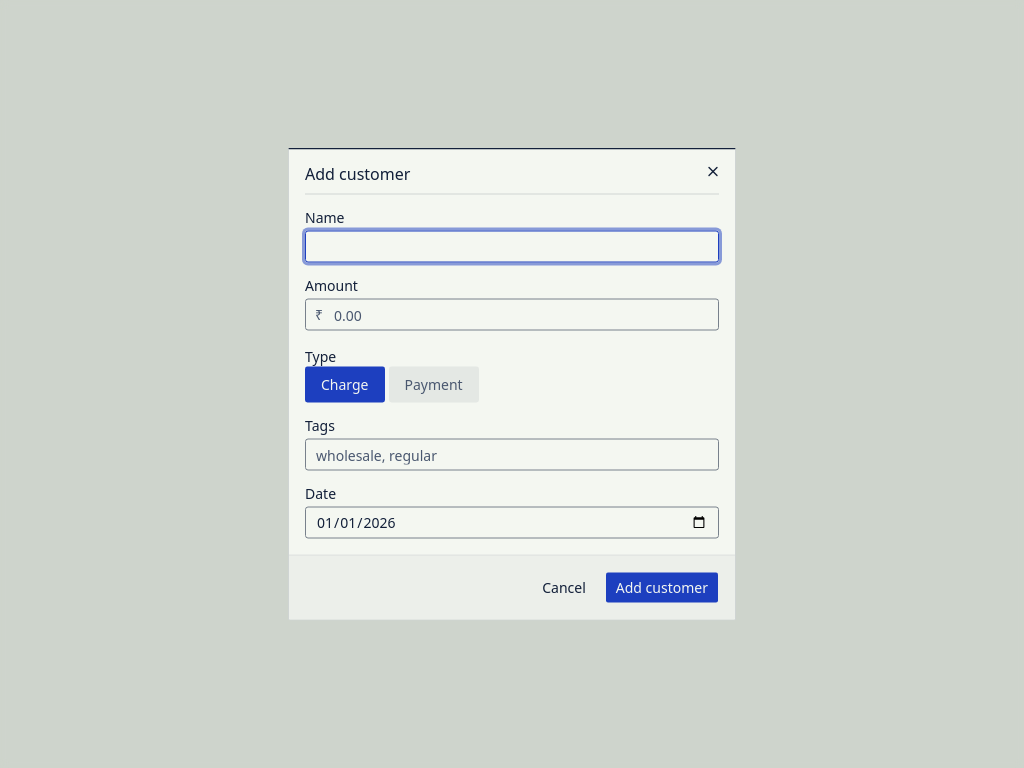
it: EntityDialog › maps field-level errors to the fields
Type "Asha" into the field labelled "Name".
click(512, 246); type("Asha")  # box left=305, top=230, right=719, bottom=262
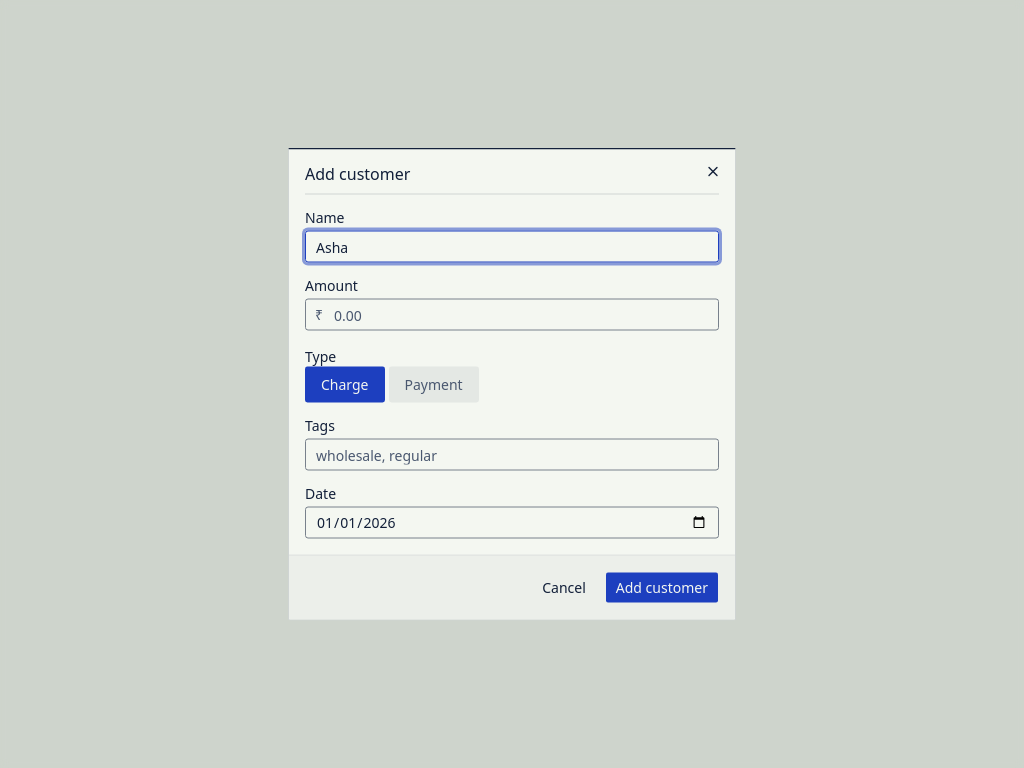
Type "100" into the number field labelled "Amount".
click(512, 314); type("100")  # box left=305, top=298, right=719, bottom=330
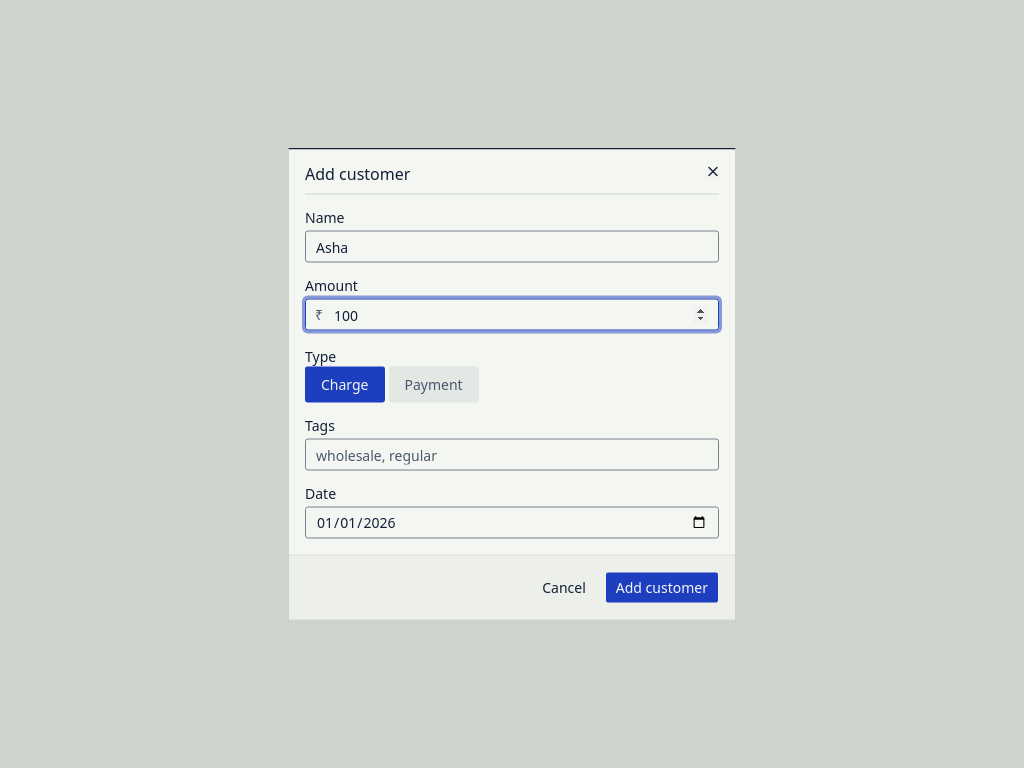
Click the button "Add customer".
click(662, 588)  # box left=605, top=572, right=719, bottom=604
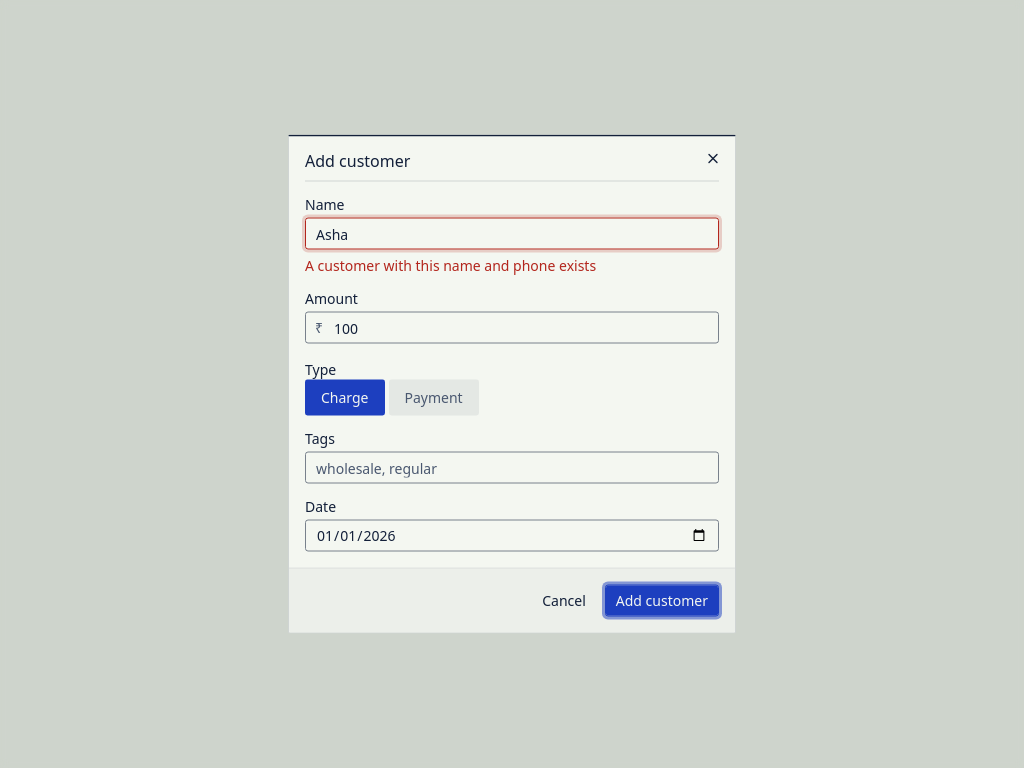
Check: the text "A customer with this name and phone exists" is shown, box left=305, top=256, right=596, bottom=274
